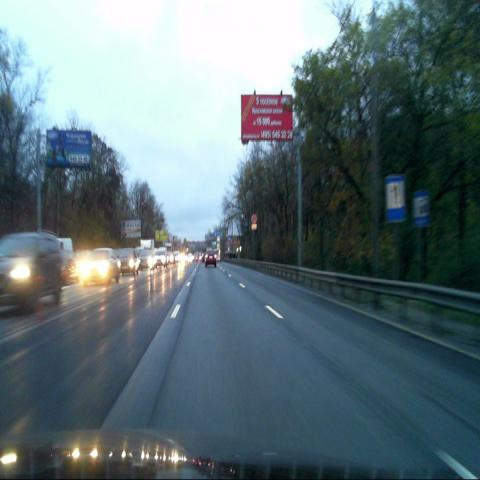7_7: (386, 174, 406, 221)
